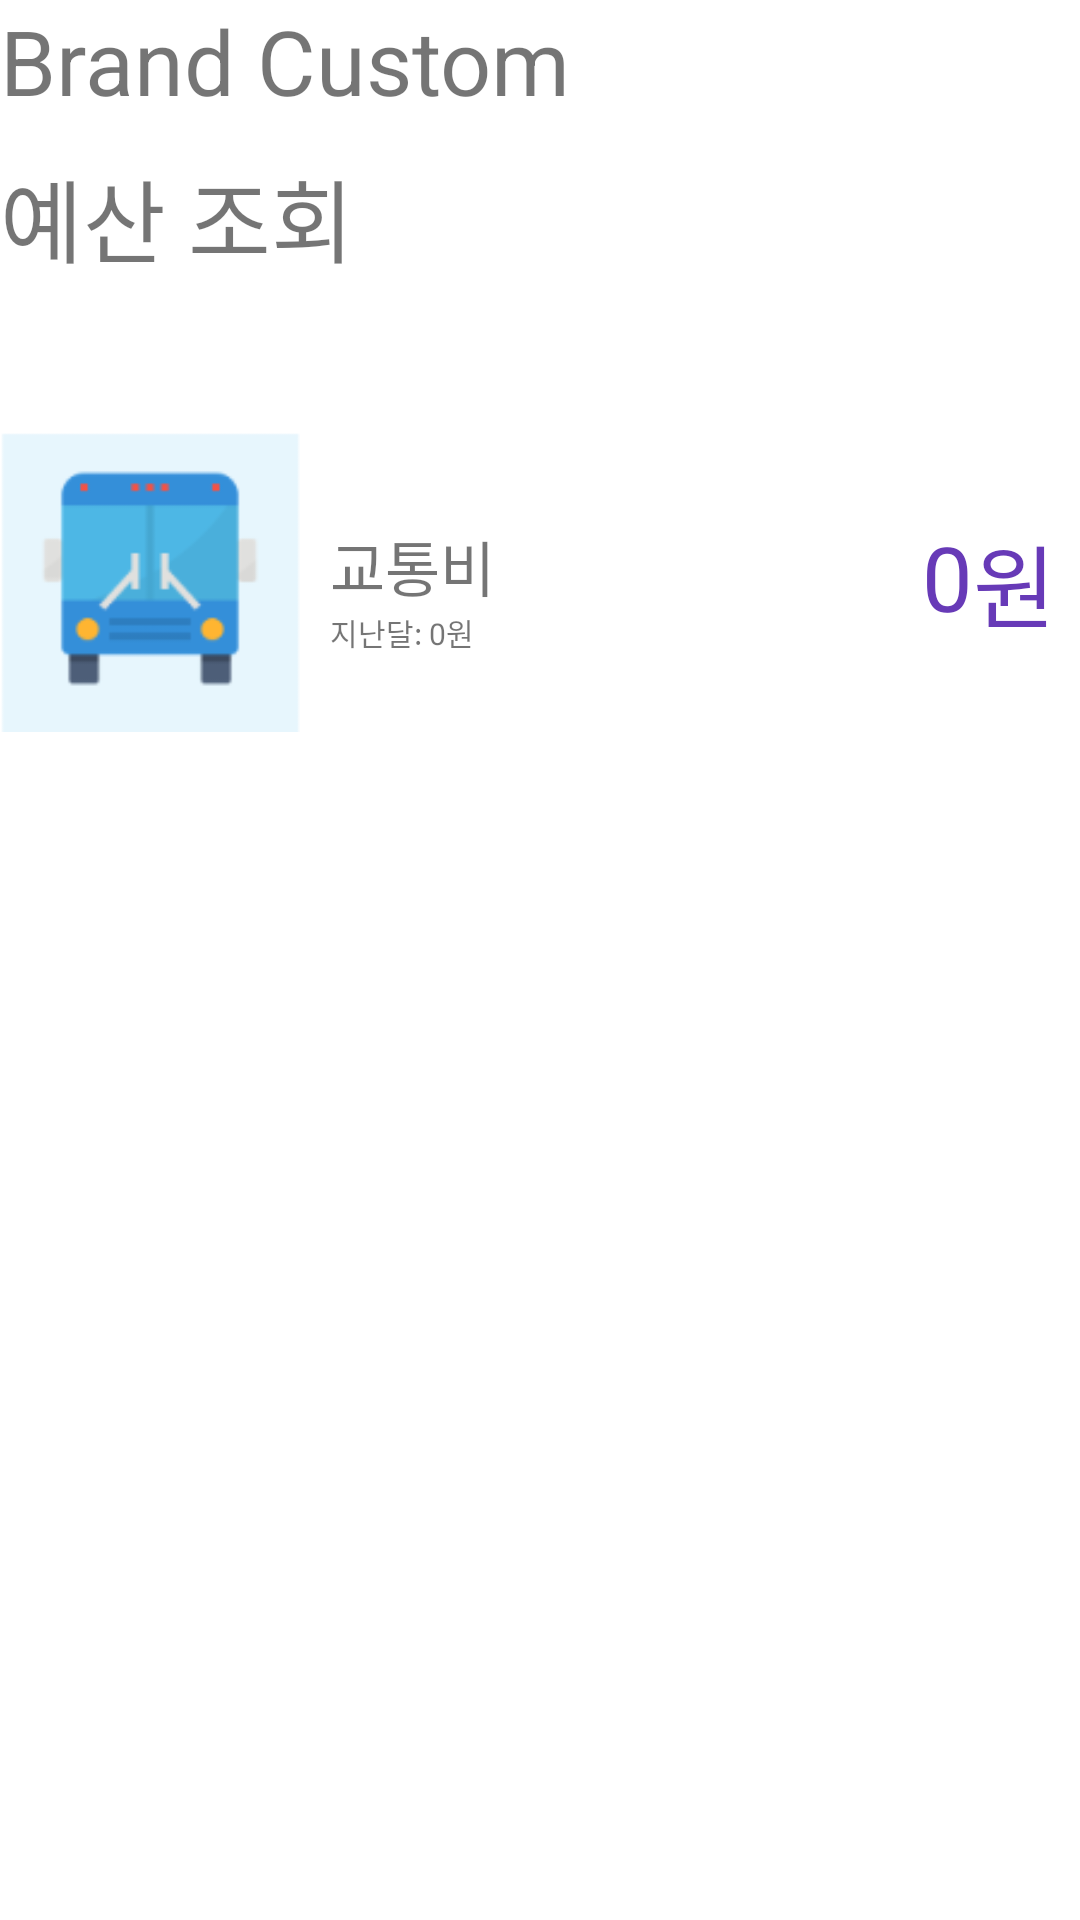

Point at icon controls on the screen. Image size 1080×1920, points as point (x, y).
traffic: point (149, 578)
